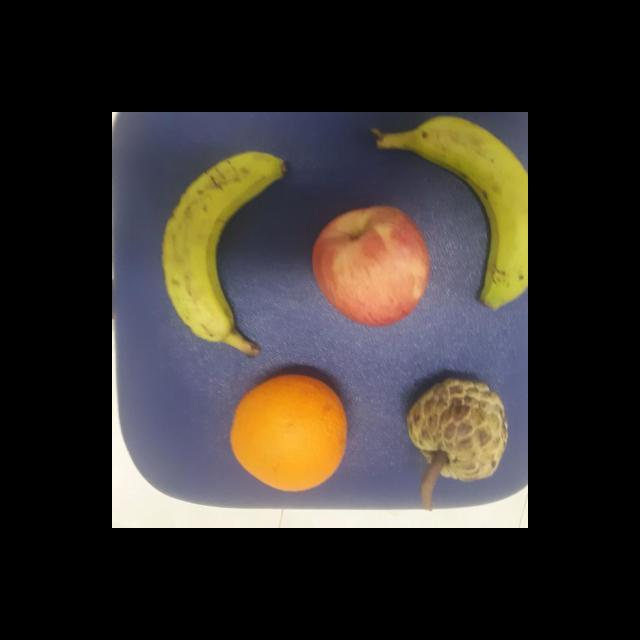Sakya fruit: (403, 374, 511, 484)
apple: (308, 204, 429, 327)
banana: (370, 114, 528, 314), (160, 151, 288, 361)
orange: (230, 368, 350, 496)
